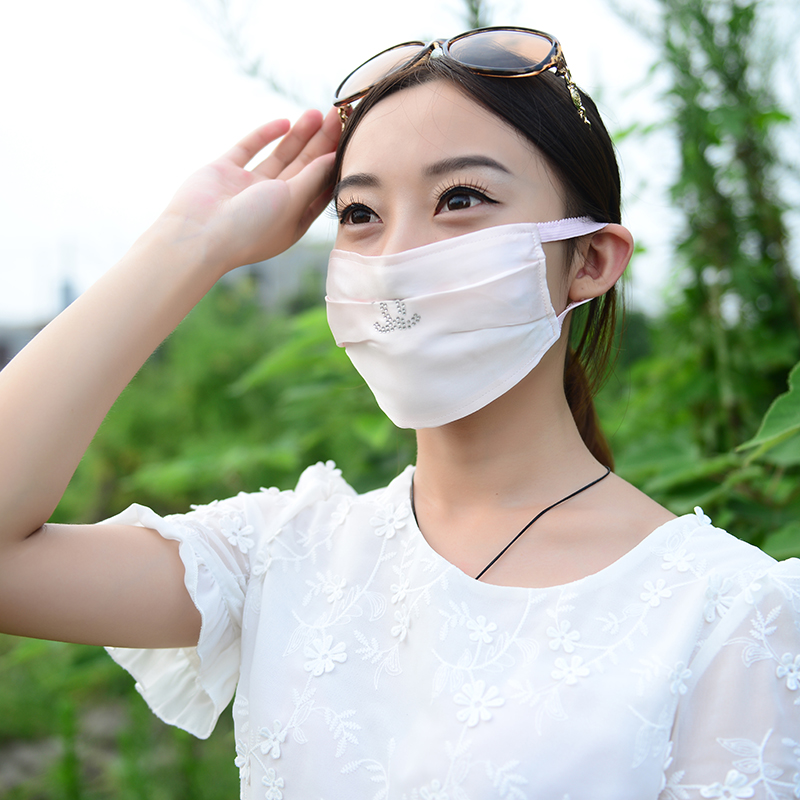face_mask: (330, 89, 565, 403)
